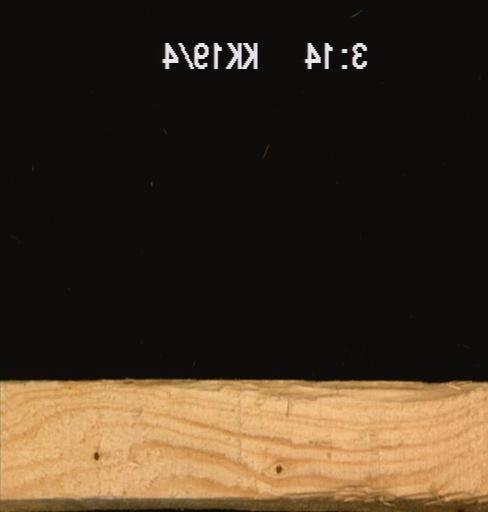small_knot: (273, 461, 283, 474), (91, 448, 101, 461)
